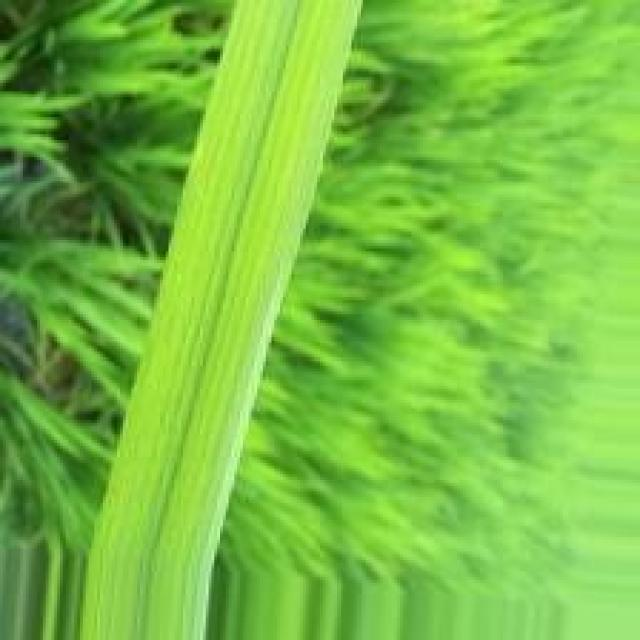HealthyLeaf: (121, 18, 330, 562)
